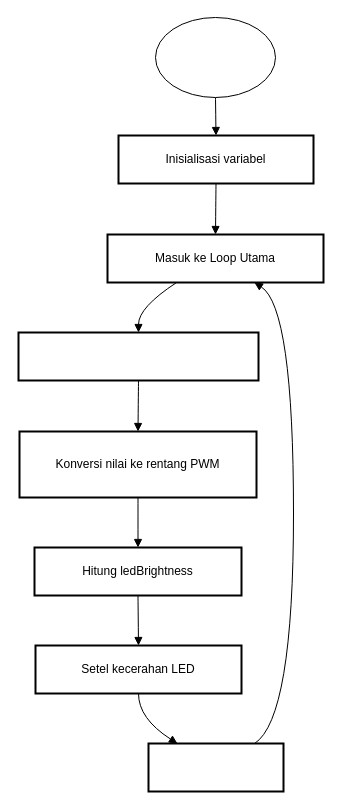
This 341x810 diagram has some shape labels left out. The centre of each missing label's shape, as x and y in pixels:
"Baca nilai potensiometer" goes at point (138, 356).
"Jeda 10ms" goes at point (215, 767).
"Mulai" goes at point (215, 57).
